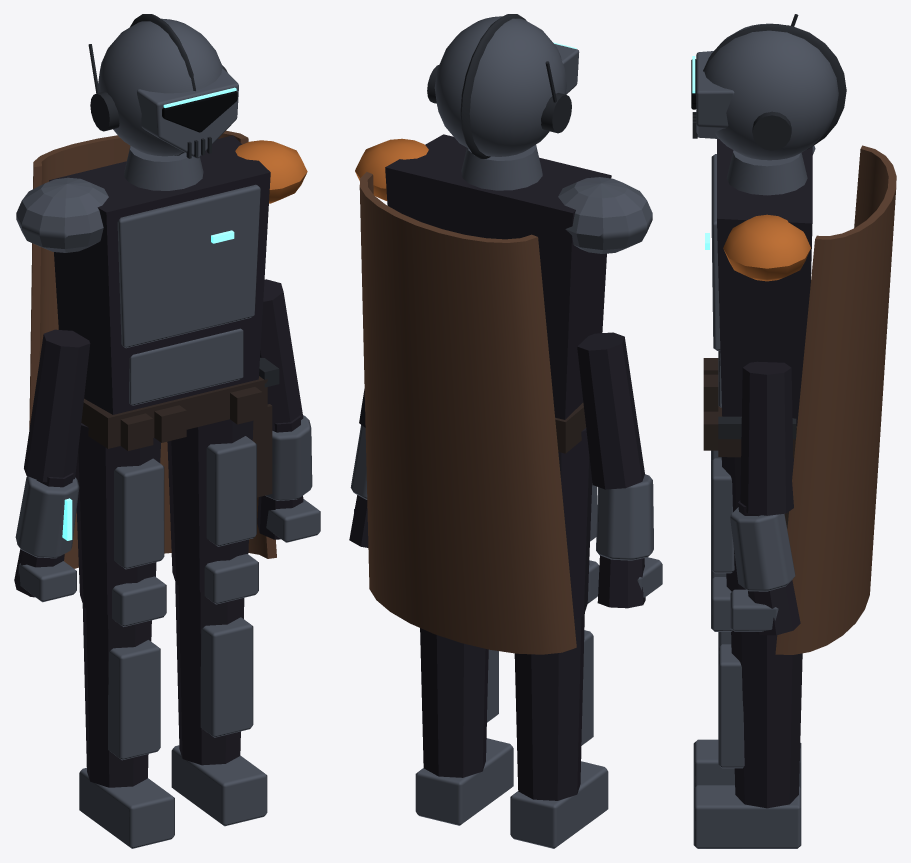
Rendered from pilot_figure.glb.
3 views of the same model, side by side, from view 1: azimuth 30°, elevation 25°; view 2: azimuth 150°, elevation 25°; view 3: azimuth 270°, elevation 25° (orthographic). The views are drawn at different scales.
Parts seen in each view (by area): view 1: pilot_armor, pilot_body, pilot_helmet_shell, pilot_belt, pilot_cape, pilot_faceplate, pilot_gorget, pilot_pauldron, pilot_visor, pilot_helmet_pods, pilot_helmet_ridge; view 2: pilot_cape, pilot_body, pilot_armor, pilot_helmet_shell, pilot_gorget, pilot_pauldron, pilot_helmet_ridge, pilot_helmet_pods, pilot_belt, pilot_faceplate; view 3: pilot_cape, pilot_body, pilot_armor, pilot_helmet_shell, pilot_pauldron, pilot_gorget, pilot_faceplate, pilot_belt, pilot_helmet_ridge, pilot_helmet_pods, pilot_sidearm.
Boxes of the visible parts, bbox=[...] form: pilot_armor: bbox=[15, 177, 320, 848]; pilot_body: bbox=[14, 135, 303, 787]; pilot_helmet_shell: bbox=[98, 18, 223, 156]; pilot_belt: bbox=[81, 376, 272, 497]; pilot_cape: bbox=[29, 130, 276, 568]; pilot_faceplate: bbox=[136, 69, 238, 158]; pilot_gorget: bbox=[124, 146, 203, 190]; pilot_pauldron: bbox=[235, 140, 307, 203]; pilot_visor: bbox=[162, 91, 237, 132]; pilot_helmet_pods: bbox=[88, 44, 227, 131]; pilot_helmet_ridge: bbox=[129, 14, 195, 155]; pilot_cape: bbox=[359, 172, 576, 654]; pilot_body: bbox=[349, 134, 645, 800]; pilot_armor: bbox=[350, 177, 662, 848]; pilot_helmet_shell: bbox=[434, 16, 566, 156]; pilot_gorget: bbox=[461, 145, 542, 190]; pilot_pauldron: bbox=[355, 138, 428, 200]; pilot_helmet_ridge: bbox=[460, 14, 526, 158]; pilot_helmet_pods: bbox=[427, 61, 571, 133]; pilot_belt: bbox=[555, 402, 586, 453]; pilot_faceplate: bbox=[554, 44, 579, 94]; pilot_cape: bbox=[775, 145, 896, 654]; pilot_body: bbox=[717, 139, 812, 808]; pilot_armor: bbox=[693, 145, 815, 848]; pilot_helmet_shell: bbox=[704, 23, 838, 160]; pilot_pauldron: bbox=[723, 214, 810, 281]; pilot_gorget: bbox=[726, 150, 807, 195]; pilot_faceplate: bbox=[696, 51, 734, 138]; pilot_belt: bbox=[703, 358, 796, 528]; pilot_helmet_ridge: bbox=[703, 24, 846, 149]; pilot_helmet_pods: bbox=[752, 14, 798, 150]; pilot_sidearm: bbox=[718, 416, 796, 439].
Bounding box in the file's own units: 0.6883 × 1.79 × 0.4198.
